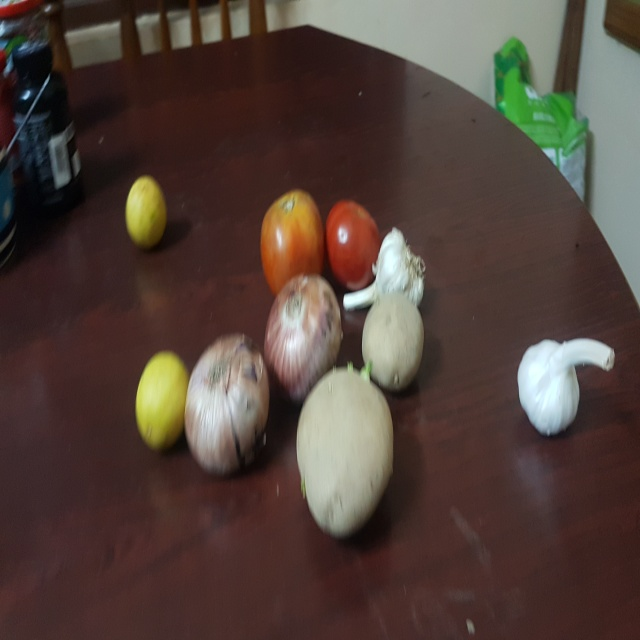garlic: (508, 307, 618, 443), (341, 230, 438, 319)
lemon: (132, 347, 195, 456), (120, 173, 175, 252)
onion: (183, 327, 271, 480), (267, 271, 346, 405)
potato: (292, 363, 406, 535), (359, 297, 434, 395)
tomato: (253, 186, 328, 298), (323, 189, 380, 298)
